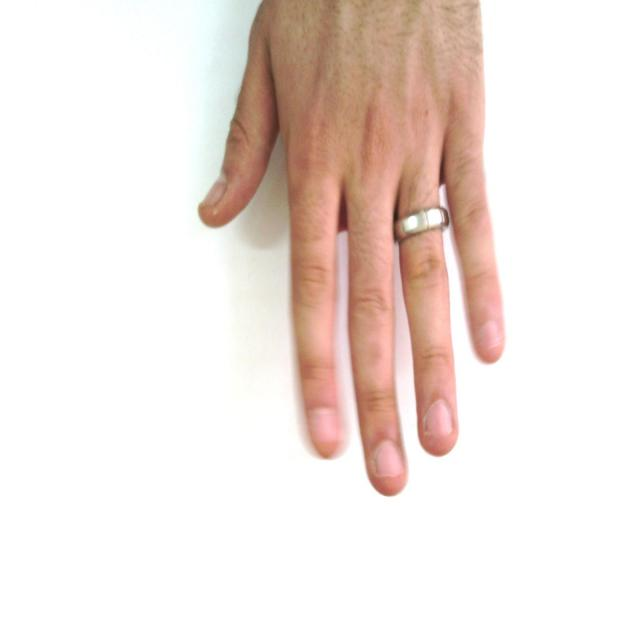others: (187, 1, 526, 502)
